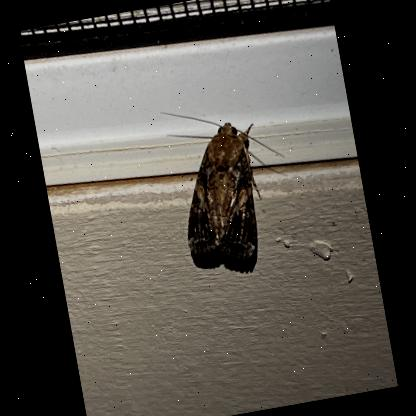Fall Armyworm Moth: (156, 89, 302, 274)
